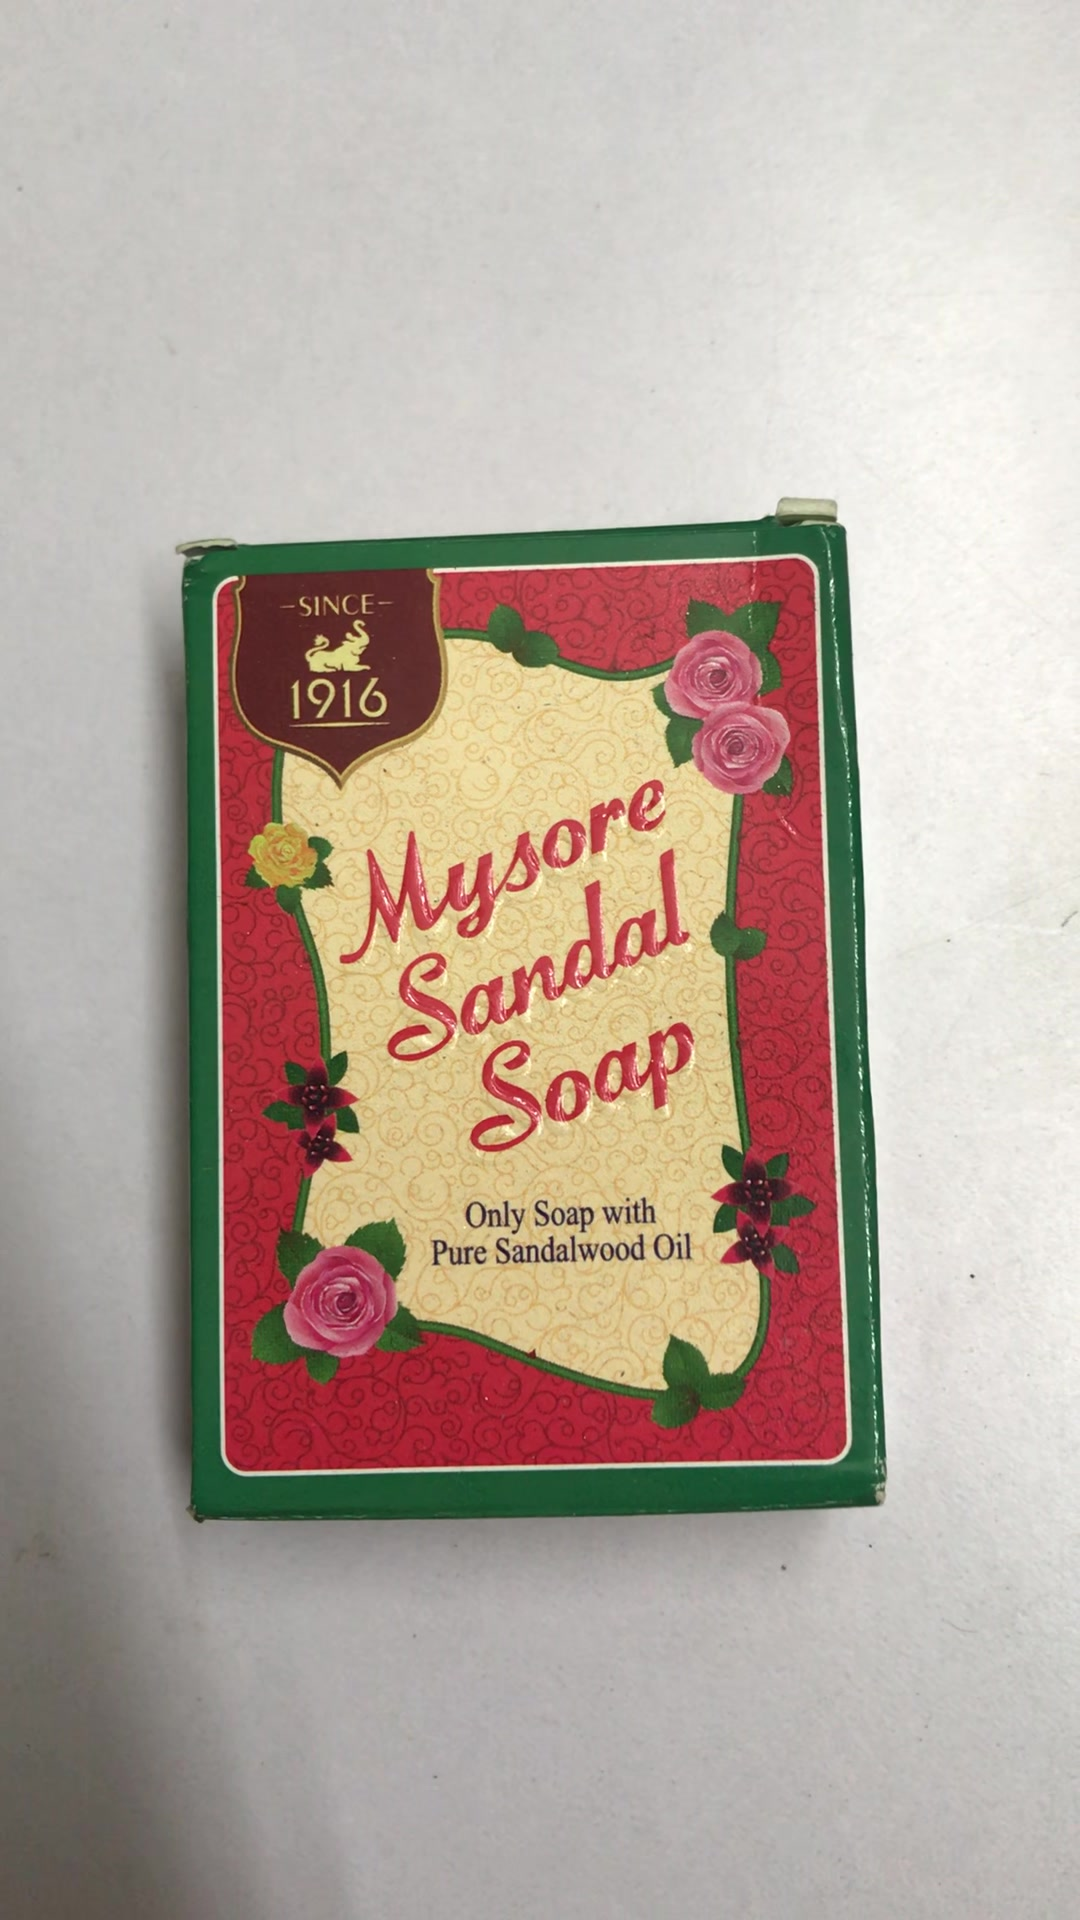mysore sandal soap: (186, 538, 874, 1515)
